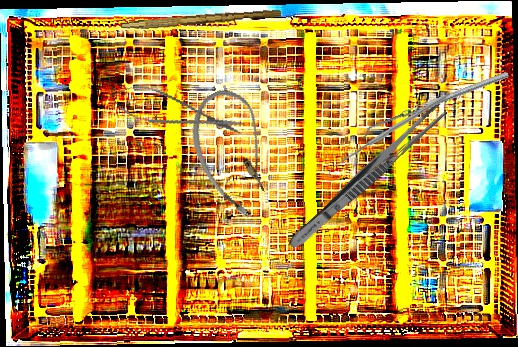Cannula: (176, 81, 293, 226)
Dressing Forceps: (284, 98, 449, 255)
Hook Surgical: (326, 93, 453, 177)
Micro Scissor: (105, 77, 248, 147)
Scalpel Handle: (120, 5, 282, 35)
Spatula Surgical: (358, 71, 512, 140)
